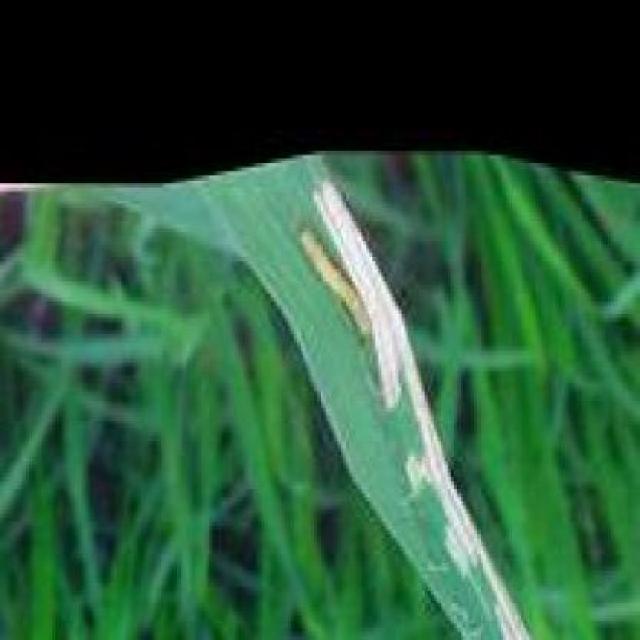leaf-folder: (272, 228, 377, 364)
